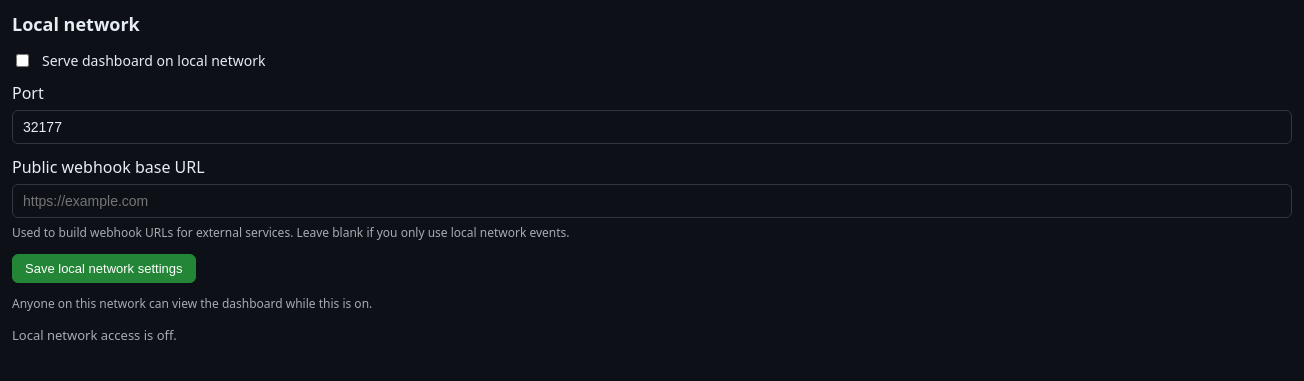
LanSettings › enables LAN access and displays returned URLs
The width and height of the screenshot is (1304, 381).
Expected: the text "Local network access is off." is shown, [12,326,177,344]
Click the checkbox labelled "Serve dashboard on local network": (22,60) [16,54,29,67]
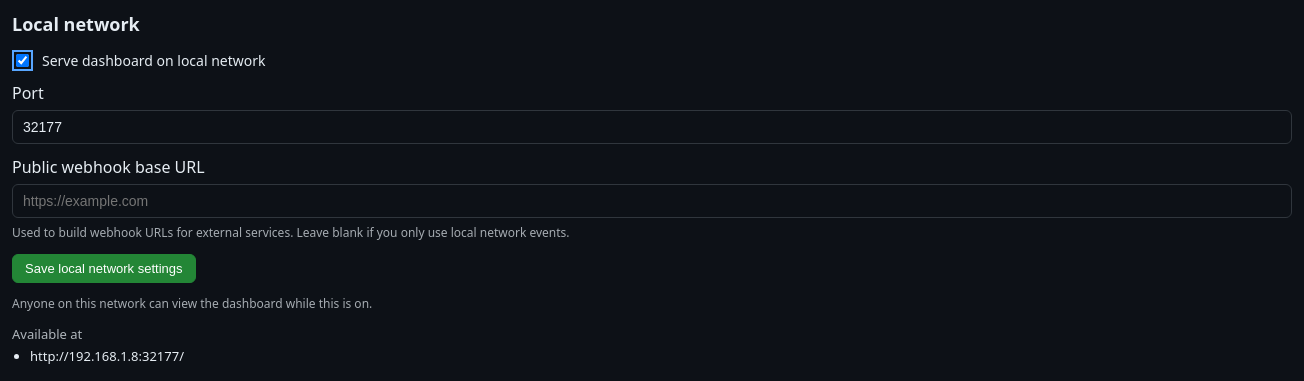
Expected: the list item "http://192.168.1.8:32177/" is shown, [30,347,184,365]
